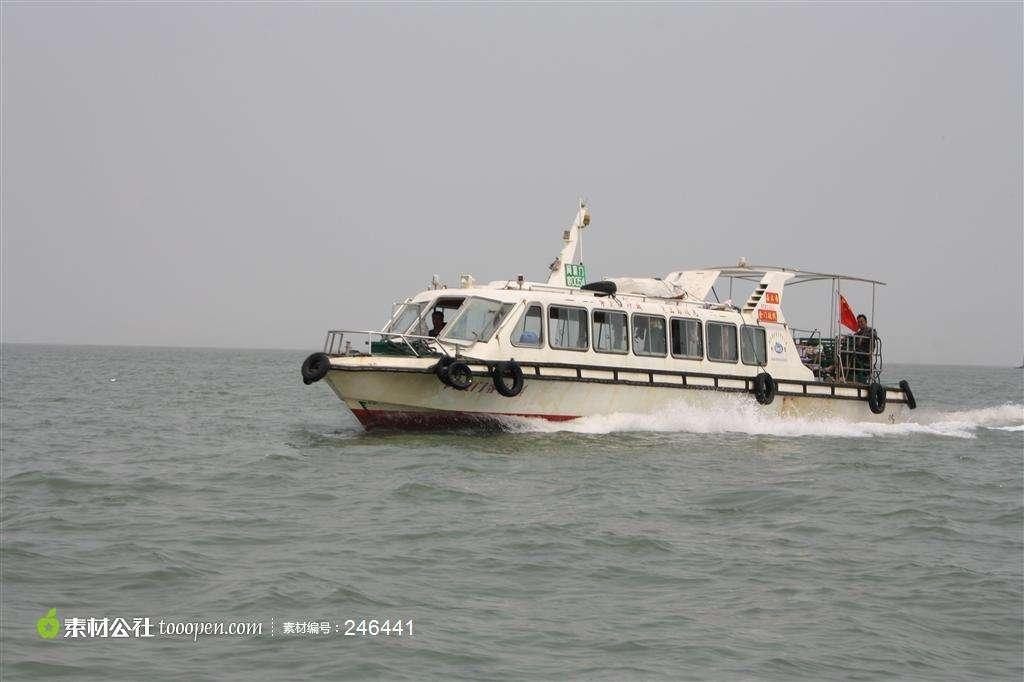otherboat: (290, 208, 931, 444)
